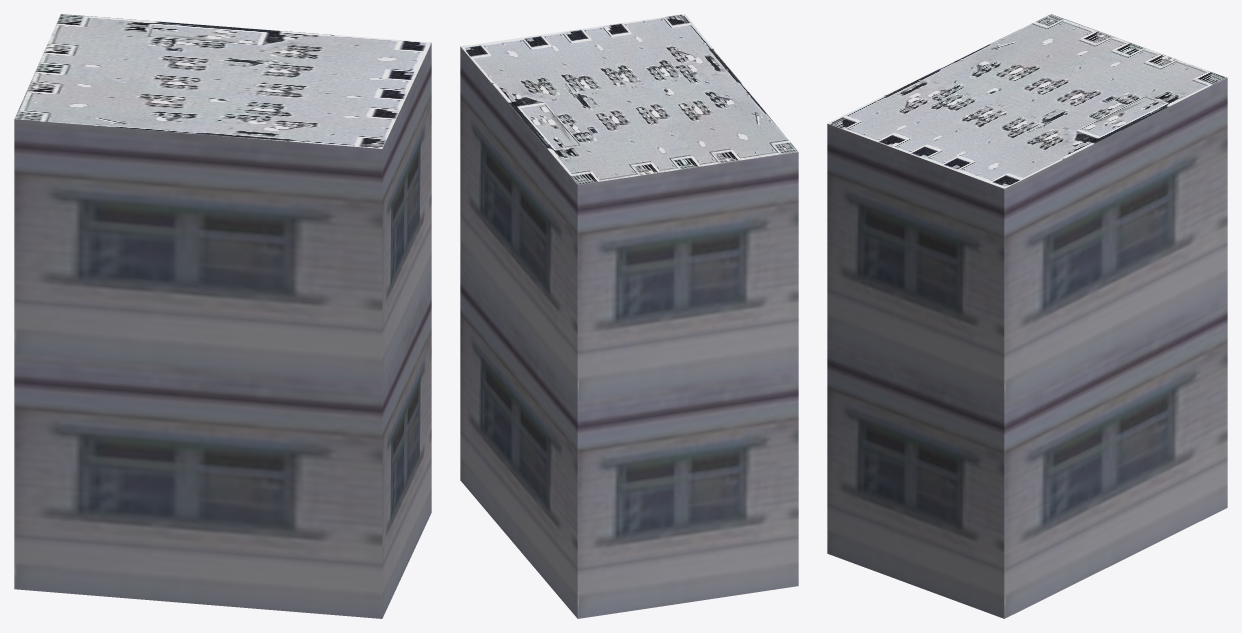
File: ResTex__1620.fbx
The picture shows the model from 3 angles, left to right: view 1: azimuth 30°, elevation 25°; view 2: azimuth 150°, elevation 25°; view 3: azimuth 270°, elevation 25°; orthographic projection. The views are drawn at different scales.
Parts seen in each view (by area): view 1: CityEngineMaterial_1_m, CityEngineMaterial_2_m; view 2: CityEngineMaterial_1_m, CityEngineMaterial_2_m; view 3: CityEngineMaterial_1_m, CityEngineMaterial_2_m.
Boxes of the visible parts, x1,y1,x2,y2 form: CityEngineMaterial_1_m: (14,43,431,618); CityEngineMaterial_2_m: (14,14,431,148); CityEngineMaterial_1_m: (460,47,798,618); CityEngineMaterial_2_m: (460,14,797,184); CityEngineMaterial_1_m: (827,78,1227,618); CityEngineMaterial_2_m: (827,14,1227,188).
Size of the model in its own units: 5.24 by 6 by 5.06.
2 materials, 2 textured.
